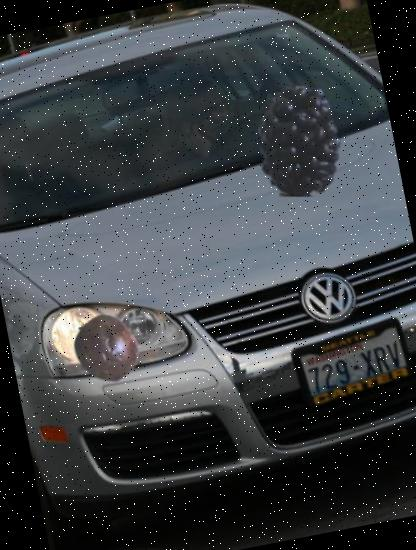Mulberry: (232, 72, 367, 207)
Passion: (66, 308, 148, 390)
